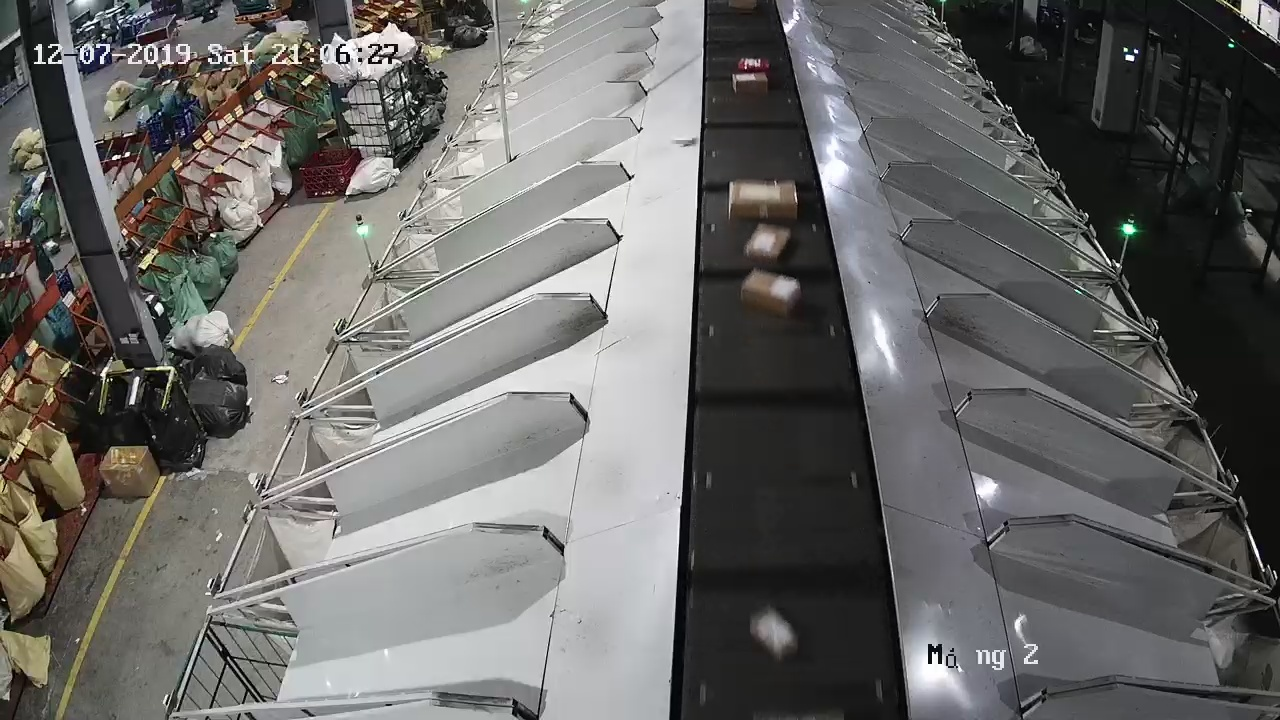parcel: (670, 135, 694, 147)
